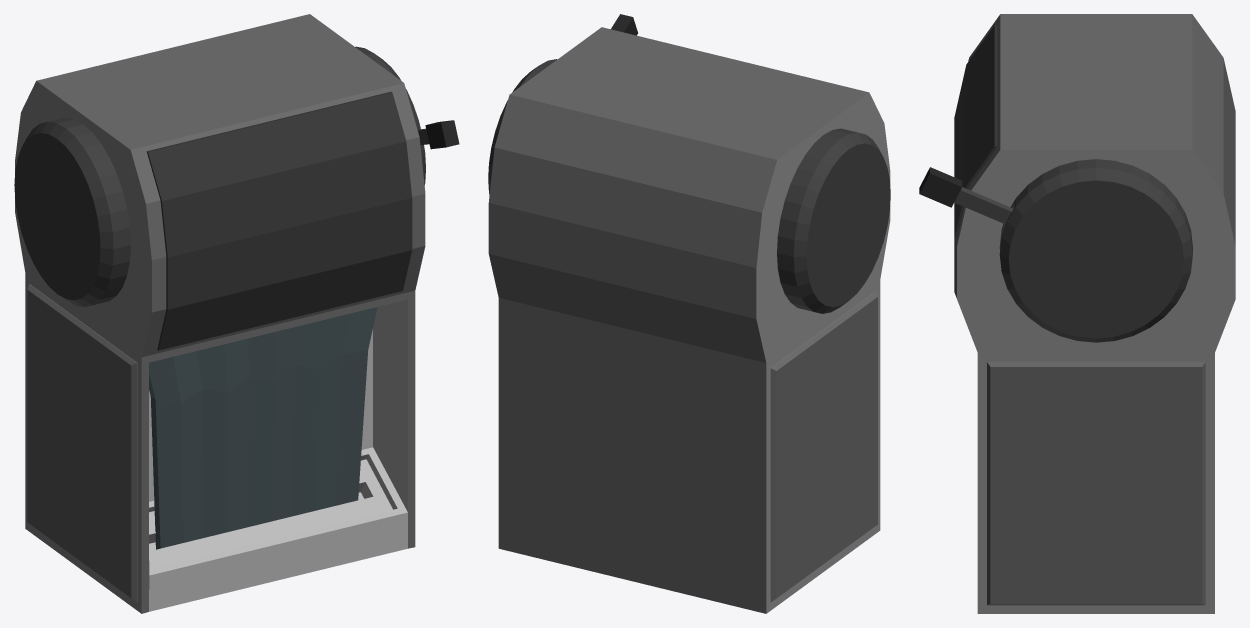
The model's file is Paper Towel Dispensor #2.fbx.
The picture shows the model from 3 angles, left to right: view 1: azimuth 30°, elevation 25°; view 2: azimuth 150°, elevation 25°; view 3: azimuth 270°, elevation 25°; orthographic projection. The views are drawn at different scales.
Visible parts, largest first — view 1: Paper Towel Dispensor #2; view 2: Paper Towel Dispensor #2; view 3: Paper Towel Dispensor #2.
Boxes of the visible parts, x1,y1,x2,y2 form: Paper Towel Dispensor #2: [14, 14, 459, 613]; Paper Towel Dispensor #2: [488, 14, 890, 613]; Paper Towel Dispensor #2: [919, 14, 1235, 613].
Bounding box in the file's own units: 63.3 × 84.73 × 52.3.
Materials: 1 (1 with a texture image).
